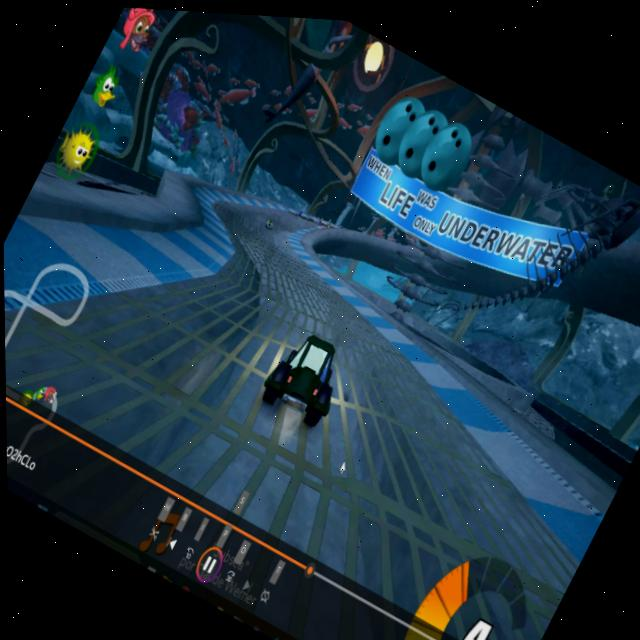off_track: (109, 212, 195, 297), (452, 393, 544, 469), (185, 205, 235, 266), (386, 320, 424, 355)
player_kart: (247, 311, 362, 446)
track: (160, 207, 313, 431)
